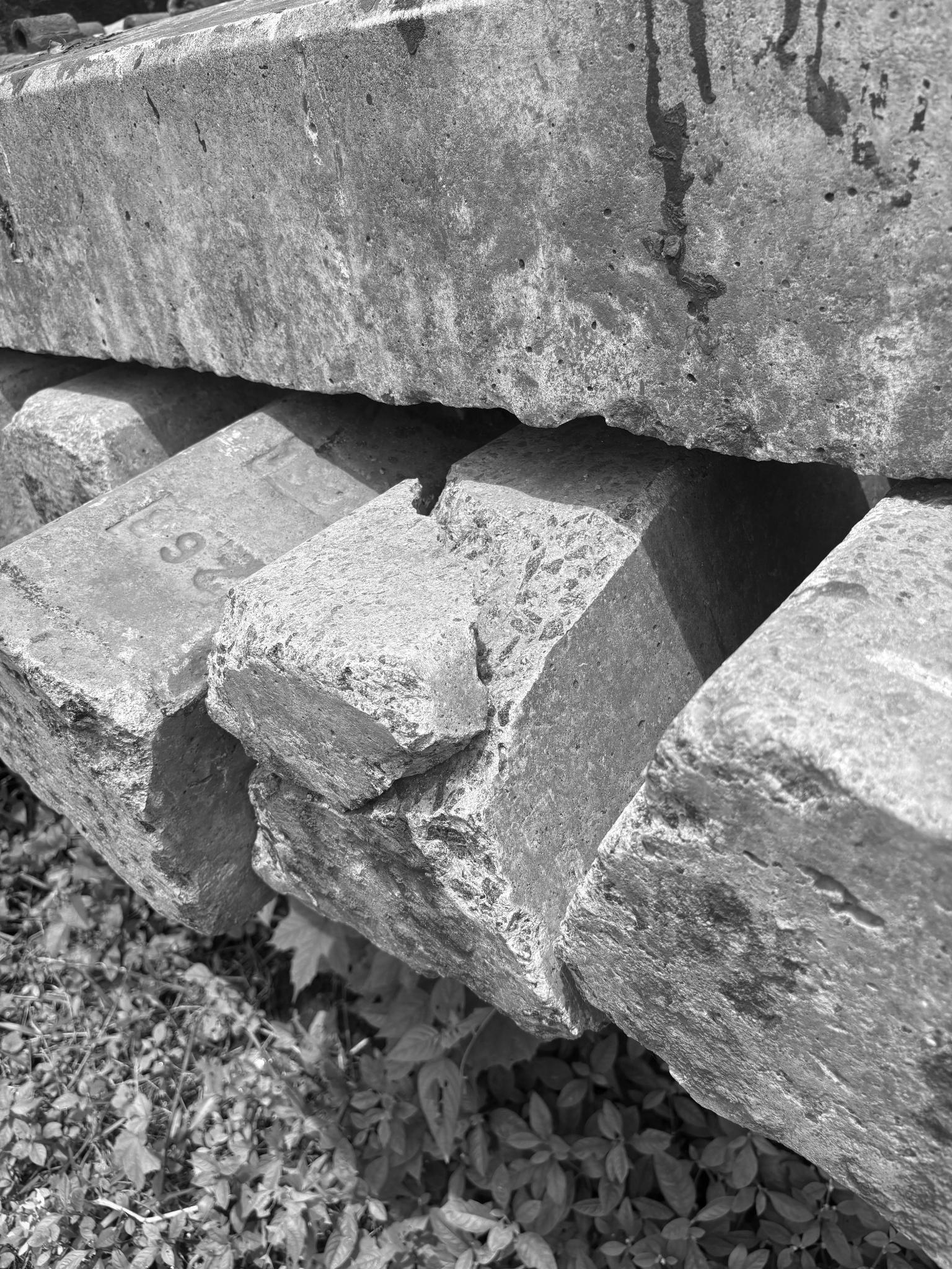cracks under rail seat: (390, 454, 670, 735), (338, 685, 576, 923)
